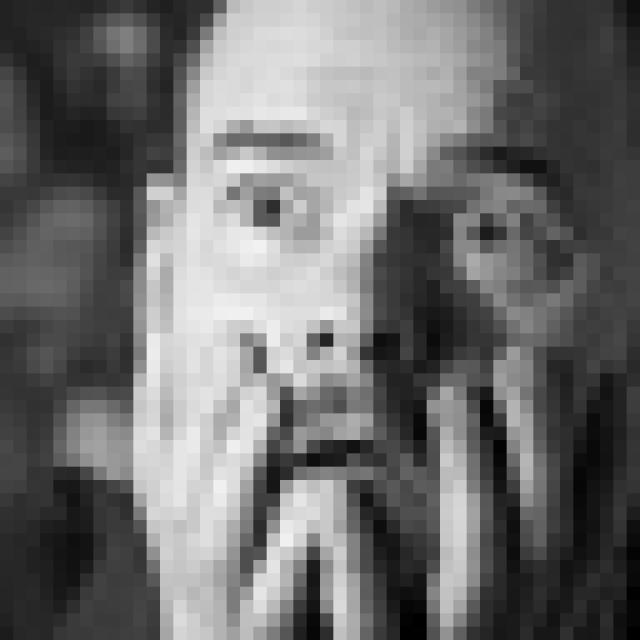fear: (207, 116, 594, 534)
